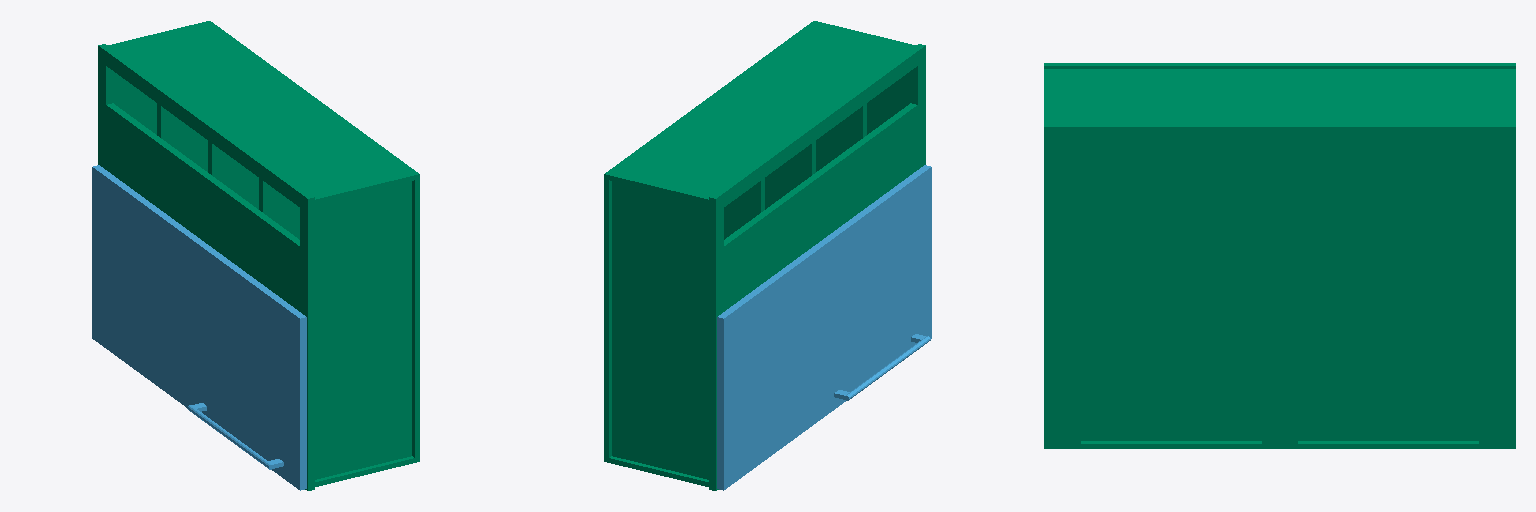
robot.urdf — partnet_1257abde355da7ebc59350d819542ec7:
<?xml version="1.0" ?>
<robot name="partnet_1257abde355da7ebc59350d819542ec7">
	<link name="base"/>
	<link name="link_0">
		<visual name="cabinet_door_surface-4">
			<origin xyz="0.7644458651217787 0.5837140083312988 -0.2396174084788556"/>
			<geometry>
				<mesh filename="textured_objs/original-24.obj"/>
			</geometry>
		</visual>
		<visual name="handle-5">
			<origin xyz="0.7644458651217787 0.5837140083312988 -0.2396174084788556"/>
			<geometry>
				<mesh filename="textured_objs/original-26.obj"/>
			</geometry>
		</visual>
		<visual name="handle-5">
			<origin xyz="0.7644458651217787 0.5837140083312988 -0.2396174084788556"/>
			<geometry>
				<mesh filename="textured_objs/original-28.obj"/>
			</geometry>
		</visual>
		<visual name="handle-5">
			<origin xyz="0.7644458651217787 0.5837140083312988 -0.2396174084788556"/>
			<geometry>
				<mesh filename="textured_objs/original-27.obj"/>
			</geometry>
		</visual>
		<collision>
			<origin xyz="0.7644458651217787 0.5837140083312988 -0.2396174084788556"/>
			<geometry>
				<mesh filename="textured_objs/original-24.obj"/>
			</geometry>
		</collision>
		<collision>
			<origin xyz="0.7644458651217787 0.5837140083312988 -0.2396174084788556"/>
			<geometry>
				<mesh filename="textured_objs/original-26.obj"/>
			</geometry>
		</collision>
		<collision>
			<origin xyz="0.7644458651217787 0.5837140083312988 -0.2396174084788556"/>
			<geometry>
				<mesh filename="textured_objs/original-28.obj"/>
			</geometry>
		</collision>
		<collision>
			<origin xyz="0.7644458651217787 0.5837140083312988 -0.2396174084788556"/>
			<geometry>
				<mesh filename="textured_objs/original-27.obj"/>
			</geometry>
		</collision>
	</link>
	<joint name="joint_0" type="revolute">
		<origin xyz="-0.7644458651217787 -0.5837140083312988 0.2396174084788556"/>
		<axis xyz="0 -1 0"/>
		<child link="link_0"/>
		<parent link="link_1"/>
		<limit lower="0.0" upper="1.5707963267948966"/>
	</joint>
	<link name="link_1">
		<visual name="vertical_side_panel-38">
			<origin xyz="0 0 0"/>
			<geometry>
				<mesh filename="textured_objs/original-15.obj"/>
			</geometry>
		</visual>
		<visual name="vertical_side_panel-38">
			<origin xyz="0 0 0"/>
			<geometry>
				<mesh filename="textured_objs/original-14.obj"/>
			</geometry>
		</visual>
		<visual name="vertical_side_panel-39">
			<origin xyz="0 0 0"/>
			<geometry>
				<mesh filename="textured_objs/original-3.obj"/>
			</geometry>
		</visual>
		<visual name="vertical_side_panel-39">
			<origin xyz="0 0 0"/>
			<geometry>
				<mesh filename="textured_objs/original-2.obj"/>
			</geometry>
		</visual>
		<visual name="vertical_front_panel-40">
			<origin xyz="0 0 0"/>
			<geometry>
				<mesh filename="textured_objs/original-18.obj"/>
			</geometry>
		</visual>
		<visual name="vertical_front_panel-40">
			<origin xyz="0 0 0"/>
			<geometry>
				<mesh filename="textured_objs/original-11.obj"/>
			</geometry>
		</visual>
		<visual name="vertical_front_panel-40">
			<origin xyz="0 0 0"/>
			<geometry>
				<mesh filename="textured_objs/original-5.obj"/>
			</geometry>
		</visual>
		<visual name="vertical_front_panel-40">
			<origin xyz="0 0 0"/>
			<geometry>
				<mesh filename="textured_objs/original-16.obj"/>
			</geometry>
		</visual>
		<visual name="vertical_front_panel-40">
			<origin xyz="0 0 0"/>
			<geometry>
				<mesh filename="textured_objs/original-12.obj"/>
			</geometry>
		</visual>
		<visual name="vertical_divider_panel-41">
			<origin xyz="0 0 0"/>
			<geometry>
				<mesh filename="textured_objs/original-22.obj"/>
			</geometry>
		</visual>
		<visual name="vertical_divider_panel-42">
			<origin xyz="0 0 0"/>
			<geometry>
				<mesh filename="textured_objs/original-21.obj"/>
			</geometry>
		</visual>
		<visual name="vertical_divider_panel-43">
			<origin xyz="0 0 0"/>
			<geometry>
				<mesh filename="textured_objs/original-19.obj"/>
			</geometry>
		</visual>
		<visual name="back_panel-44">
			<origin xyz="0 0 0"/>
			<geometry>
				<mesh filename="textured_objs/original-8.obj"/>
			</geometry>
		</visual>
		<visual name="back_panel-44">
			<origin xyz="0 0 0"/>
			<geometry>
				<mesh filename="textured_objs/original-29.obj"/>
			</geometry>
		</visual>
		<visual name="back_panel-44">
			<origin xyz="0 0 0"/>
			<geometry>
				<mesh filename="textured_objs/original-7.obj"/>
			</geometry>
		</visual>
		<visual name="bottom_panel-45">
			<origin xyz="0 0 0"/>
			<geometry>
				<mesh filename="textured_objs/original-9.obj"/>
			</geometry>
		</visual>
		<visual name="top_panel-46">
			<origin xyz="0 0 0"/>
			<geometry>
				<mesh filename="textured_objs/original-10.obj"/>
			</geometry>
		</visual>
		<visual name="frame_vertical_bar-47">
			<origin xyz="0 0 0"/>
			<geometry>
				<mesh filename="textured_objs/original-4.obj"/>
			</geometry>
		</visual>
		<visual name="frame_vertical_bar-48">
			<origin xyz="0 0 0"/>
			<geometry>
				<mesh filename="textured_objs/original-17.obj"/>
			</geometry>
		</visual>
		<visual name="frame_vertical_bar-49">
			<origin xyz="0 0 0"/>
			<geometry>
				<mesh filename="textured_objs/original-20.obj"/>
			</geometry>
		</visual>
		<collision>
			<origin xyz="0 0 0"/>
			<geometry>
				<mesh filename="textured_objs/original-15.obj"/>
			</geometry>
		</collision>
		<collision>
			<origin xyz="0 0 0"/>
			<geometry>
				<mesh filename="textured_objs/original-14.obj"/>
			</geometry>
		</collision>
		<collision>
			<origin xyz="0 0 0"/>
			<geometry>
				<mesh filename="textured_objs/original-3.obj"/>
			</geometry>
		</collision>
		<collision>
			<origin xyz="0 0 0"/>
			<geometry>
				<mesh filename="textured_objs/original-2.obj"/>
			</geometry>
		</collision>
		<collision>
			<origin xyz="0 0 0"/>
			<geometry>
				<mesh filename="textured_objs/original-18.obj"/>
			</geometry>
		</collision>
		<collision>
			<origin xyz="0 0 0"/>
			<geometry>
				<mesh filename="textured_objs/original-11.obj"/>
			</geometry>
		</collision>
		<collision>
			<origin xyz="0 0 0"/>
			<geometry>
				<mesh filename="textured_objs/original-5.obj"/>
			</geometry>
		</collision>
		<collision>
			<origin xyz="0 0 0"/>
			<geometry>
				<mesh filename="textured_objs/original-16.obj"/>
			</geometry>
		</collision>
		<collision>
			<origin xyz="0 0 0"/>
			<geometry>
				<mesh filename="textured_objs/original-12.obj"/>
			</geometry>
		</collision>
		<collision>
			<origin xyz="0 0 0"/>
			<geometry>
				<mesh filename="textured_objs/original-22.obj"/>
			</geometry>
		</collision>
		<collision>
			<origin xyz="0 0 0"/>
			<geometry>
				<mesh filename="textured_objs/original-21.obj"/>
			</geometry>
		</collision>
		<collision>
			<origin xyz="0 0 0"/>
			<geometry>
				<mesh filename="textured_objs/original-19.obj"/>
			</geometry>
		</collision>
		<collision>
			<origin xyz="0 0 0"/>
			<geometry>
				<mesh filename="textured_objs/original-8.obj"/>
			</geometry>
		</collision>
		<collision>
			<origin xyz="0 0 0"/>
			<geometry>
				<mesh filename="textured_objs/original-29.obj"/>
			</geometry>
		</collision>
		<collision>
			<origin xyz="0 0 0"/>
			<geometry>
				<mesh filename="textured_objs/original-7.obj"/>
			</geometry>
		</collision>
		<collision>
			<origin xyz="0 0 0"/>
			<geometry>
				<mesh filename="textured_objs/original-9.obj"/>
			</geometry>
		</collision>
		<collision>
			<origin xyz="0 0 0"/>
			<geometry>
				<mesh filename="textured_objs/original-10.obj"/>
			</geometry>
		</collision>
		<collision>
			<origin xyz="0 0 0"/>
			<geometry>
				<mesh filename="textured_objs/original-4.obj"/>
			</geometry>
		</collision>
		<collision>
			<origin xyz="0 0 0"/>
			<geometry>
				<mesh filename="textured_objs/original-17.obj"/>
			</geometry>
		</collision>
		<collision>
			<origin xyz="0 0 0"/>
			<geometry>
				<mesh filename="textured_objs/original-20.obj"/>
			</geometry>
		</collision>
	</link>
	<joint name="joint_1" type="fixed">
		<origin rpy="1.570796326794897 0 -1.570796326794897" xyz="0 0 0"/>
		<child link="link_1"/>
		<parent link="base"/>
	</joint>
</robot>

--- Render facts (derived) ---
3 views of the same robot in one strip: view 1: azimuth 30°, elevation 25°; view 2: azimuth 150°, elevation 25°; view 3: azimuth 270°, elevation 25° (orthographic).
Robot: partnet_1257abde355da7ebc59350d819542ec7 — 3 links, 2 joints (1 revolute, 1 fixed); root link base; default pose: all joints at 0.
Links seen in each view (by area): view 1: link_1, link_0; view 2: link_1, link_0; view 3: link_1.
Link boxes in pixels (left/top/right/bottom): link_1: left=98, top=21, right=419, bottom=490; link_0: left=92, top=165, right=306, bottom=490; link_1: left=604, top=21, right=925, bottom=490; link_0: left=717, top=165, right=931, bottom=490; link_1: left=1044, top=63, right=1515, bottom=448.
Size in the robot's own frame: 0.5767 by 1.56 by 1.2 metres.
Meshes: 24 distinct files referenced, 24 mesh visuals loaded (24 OBJ).
